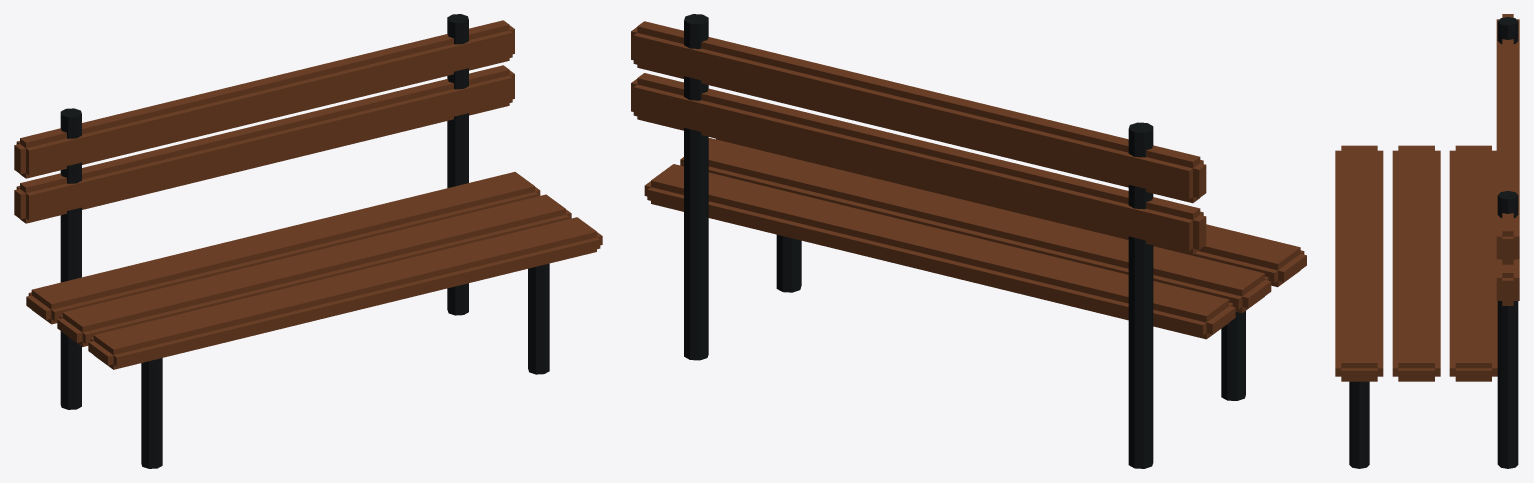
Rendered from bench.glb.
The picture shows the model from 3 angles, left to right: view 1: azimuth 30°, elevation 25°; view 2: azimuth 150°, elevation 25°; view 3: azimuth 270°, elevation 25°; orthographic projection. The views are drawn at different scales.
Parts seen in each view (by area): view 1: Platform benchMesh; view 2: Platform benchMesh; view 3: Platform benchMesh.
Boxes of the visible parts, box(x1,y1,x2,y2) form: Platform benchMesh: box(14, 14, 602, 468); Platform benchMesh: box(631, 14, 1306, 468); Platform benchMesh: box(1335, 14, 1519, 468).
Bounding box in the file's own units: 2.3 × 1.3 × 0.805.
